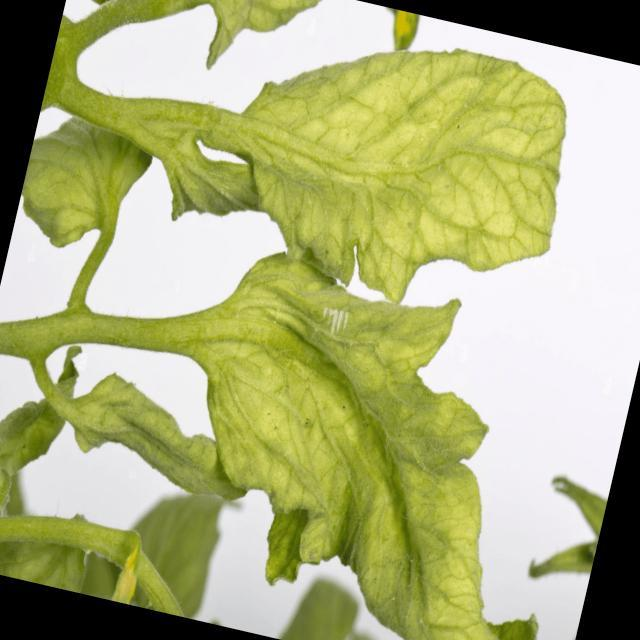Tomato mosaic virus leaf: (148, 239, 610, 640), (216, 0, 591, 337)
